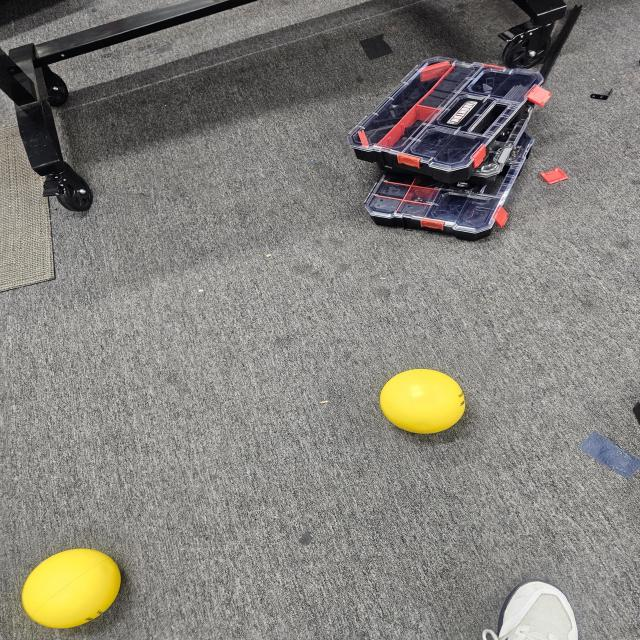Fuel: (18, 544, 126, 632), (376, 365, 474, 446)
